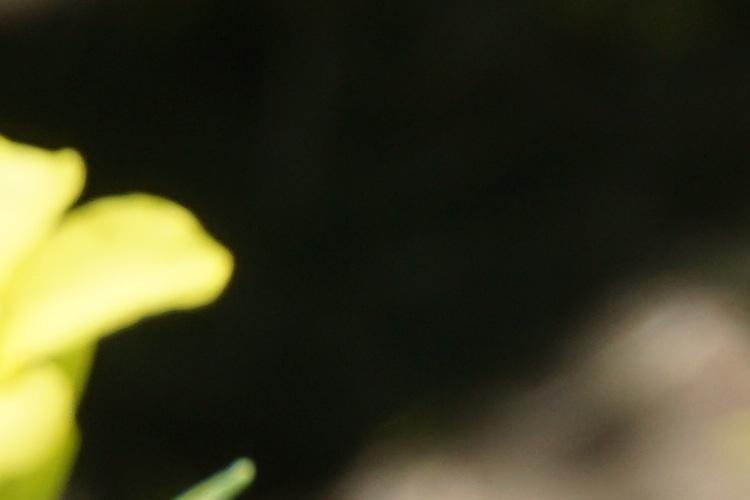yellow: (4, 140, 237, 465)
